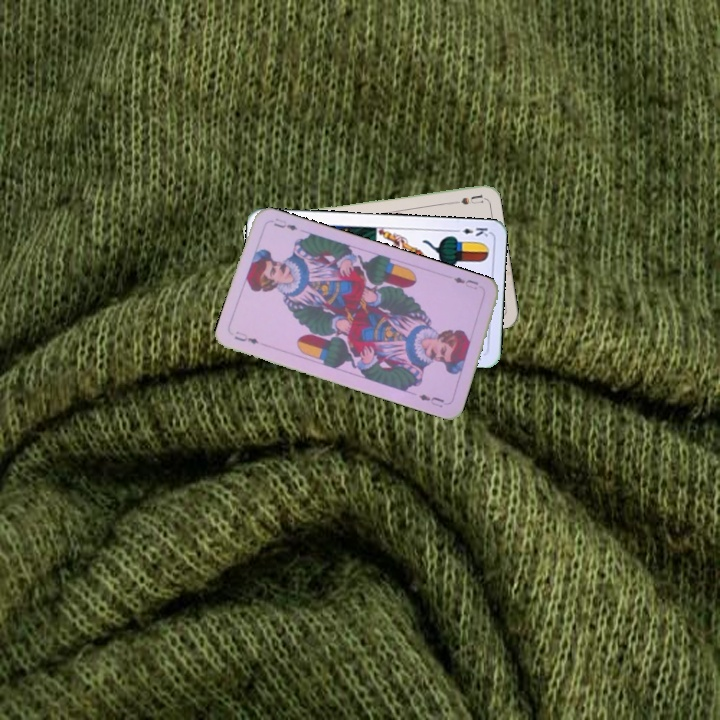EK: (450, 223, 490, 239)
EU: (230, 327, 261, 347), (449, 273, 481, 292)
SU: (444, 190, 485, 207)
